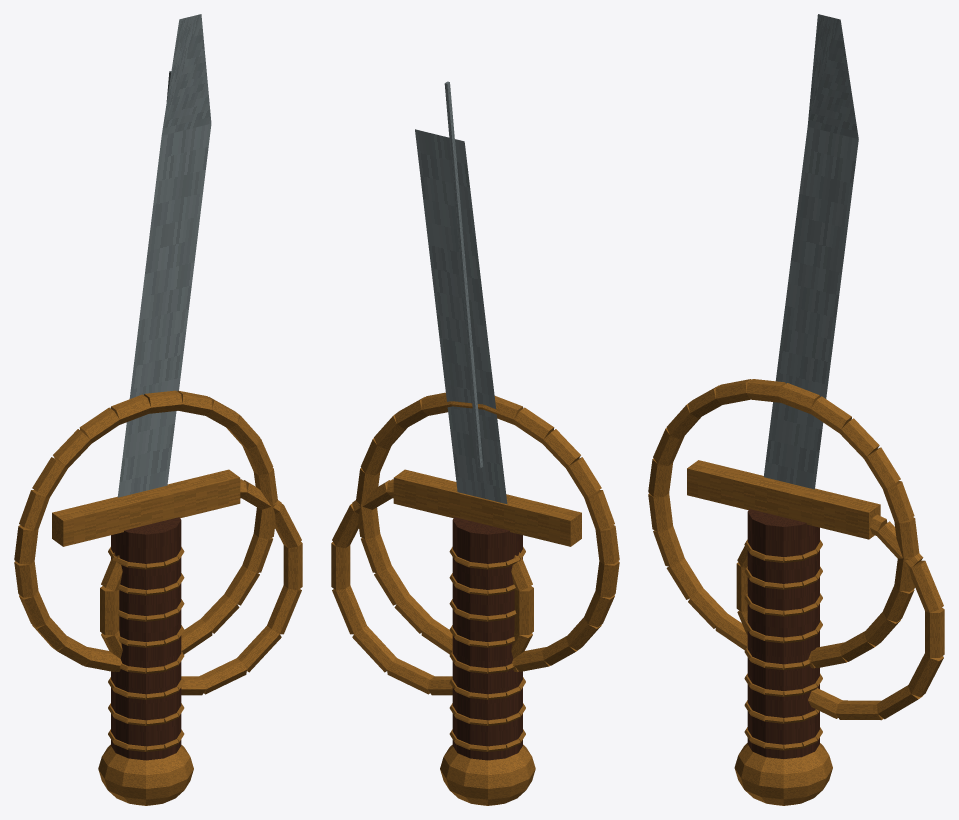
File: SM_draven_saber.gltf
3 renders of one model, left to right at view 1: azimuth 30°, elevation 25°; view 2: azimuth 150°, elevation 25°; view 3: azimuth 330°, elevation 25°, orthographic. The views are drawn at different scales.
Parts seen in each view (by area): view 1: root; view 2: root; view 3: root.
Part boxes in pixels (x1=…): root: x1=14, y1=14, x2=302, y2=805; root: x1=331, y1=81, x2=619, y2=805; root: x1=648, y1=14, x2=944, y2=805.
Bounding box in the file's own units: 0.5125 × 1.34 × 0.15.
Materials: 3 (3 with a texture image).
